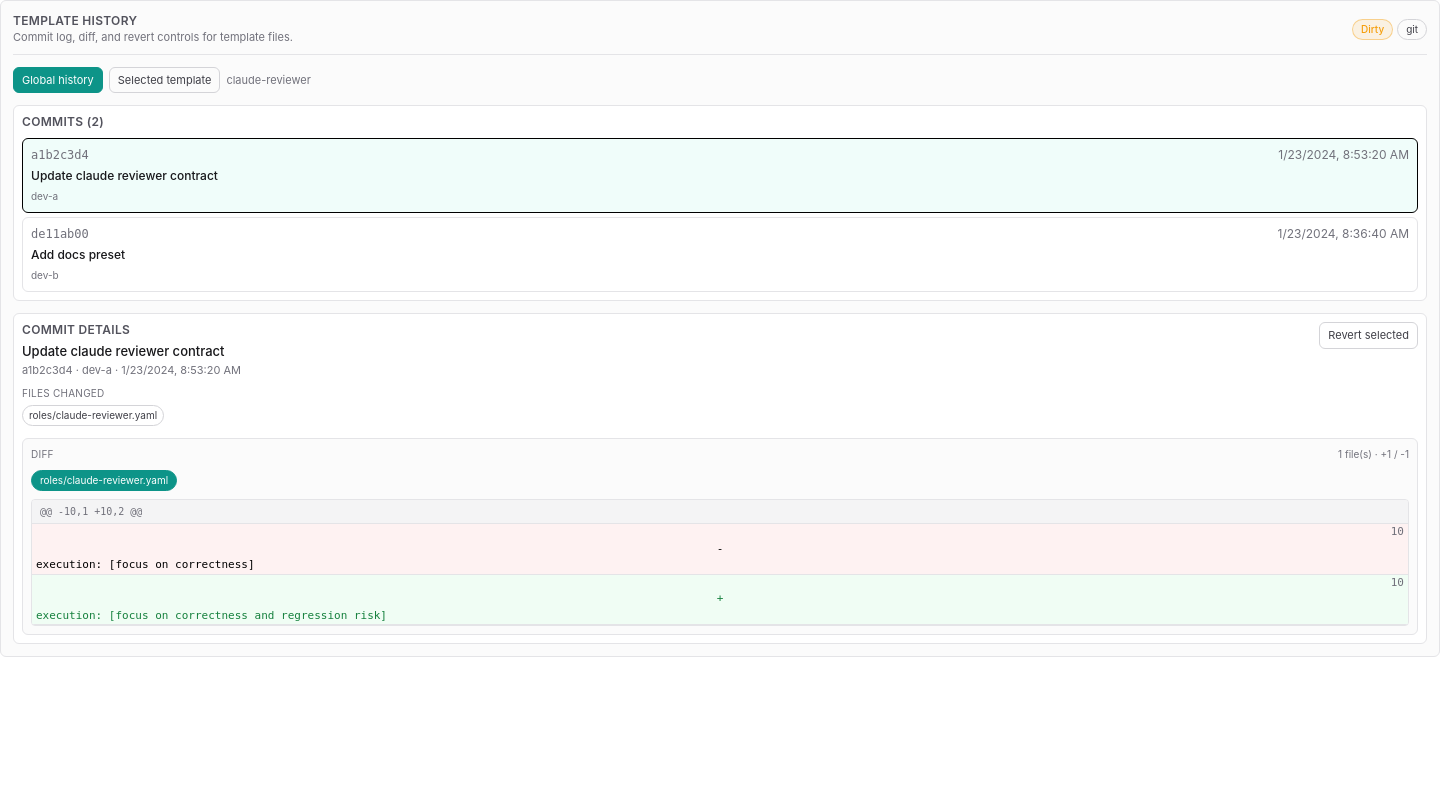
Test case: TemplateHistoryPanel › filters commit list to selected template when template scope is chosen
Expected: the button with test id "template-history-commit-a1b2c3d4" is shown, x1=22 y1=138 x2=1418 y2=213
Click the button with test id "template-history-scope-template": (165, 80) x1=109 y1=66 x2=220 y2=93
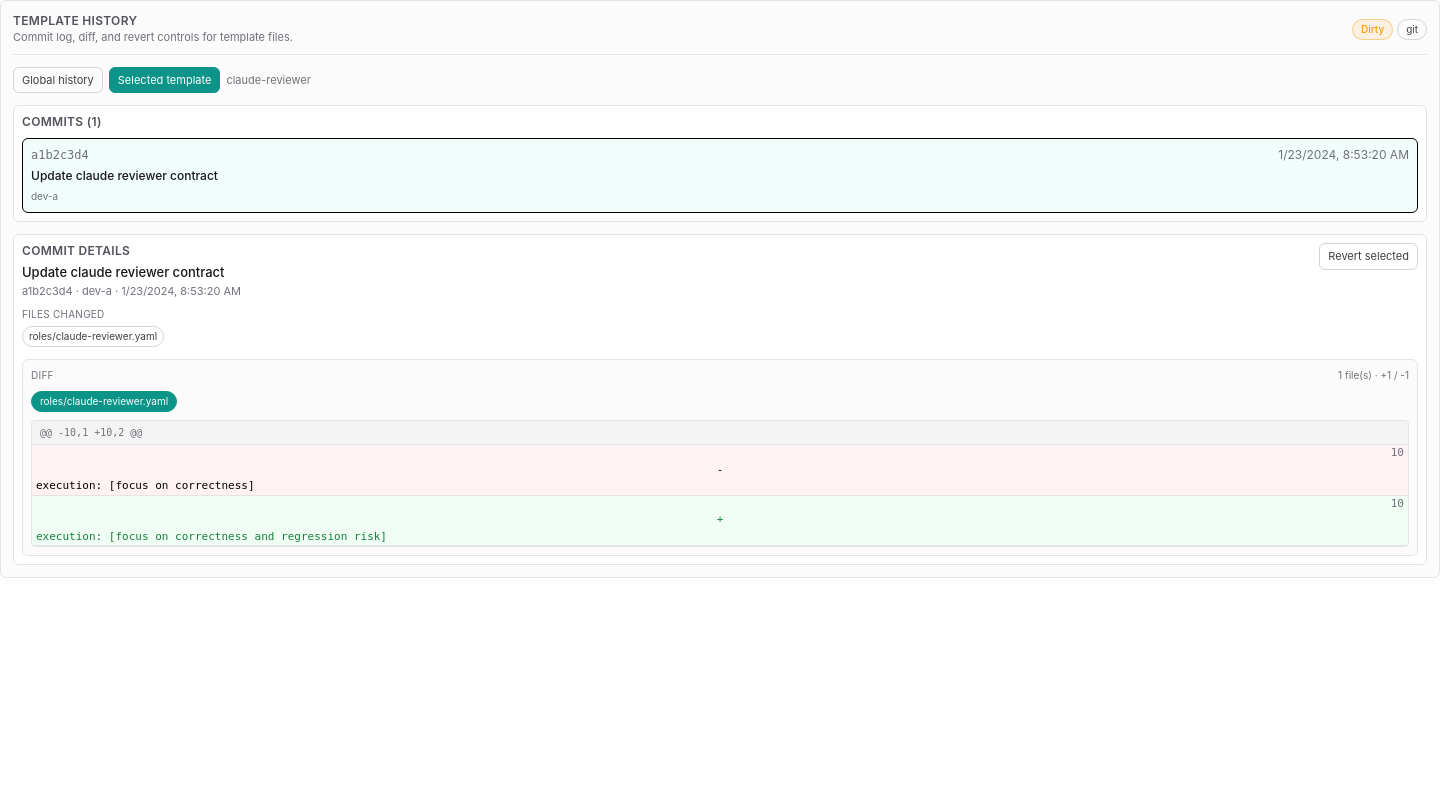
Expected: the button with test id "template-history-commit-a1b2c3d4" is shown, x1=22 y1=138 x2=1418 y2=213
Expected: the button with test id "template-history-commit-de11ab00" is gone
